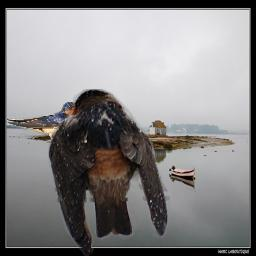Swallow: (48, 89, 170, 256), (7, 102, 81, 144)
